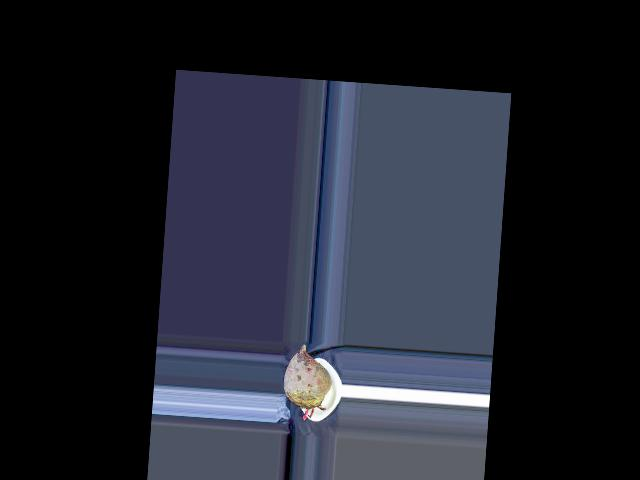beet: (282, 344, 334, 422)
